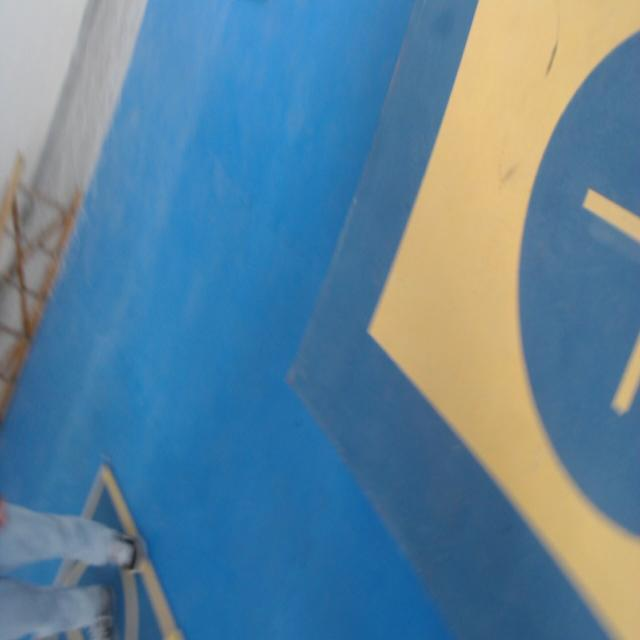base_inicio: (367, 0, 640, 639)
